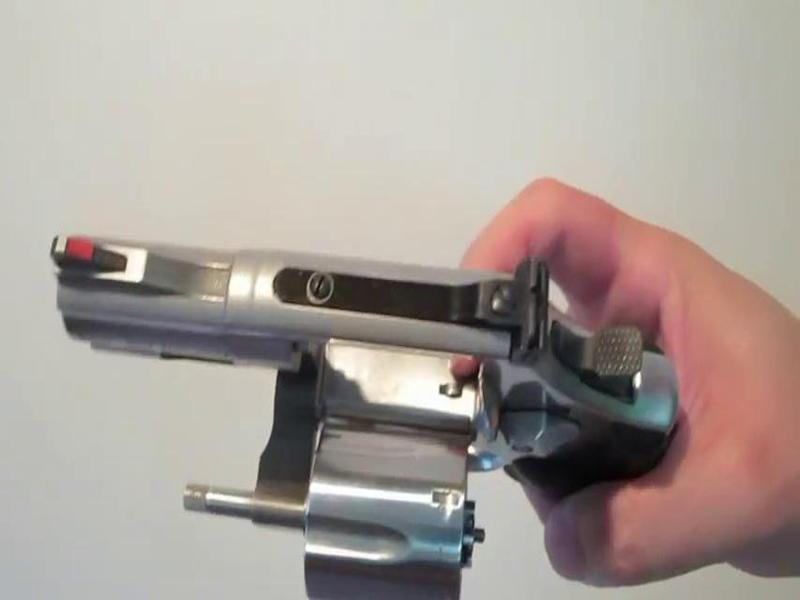Revolver: (41, 208, 674, 600)
